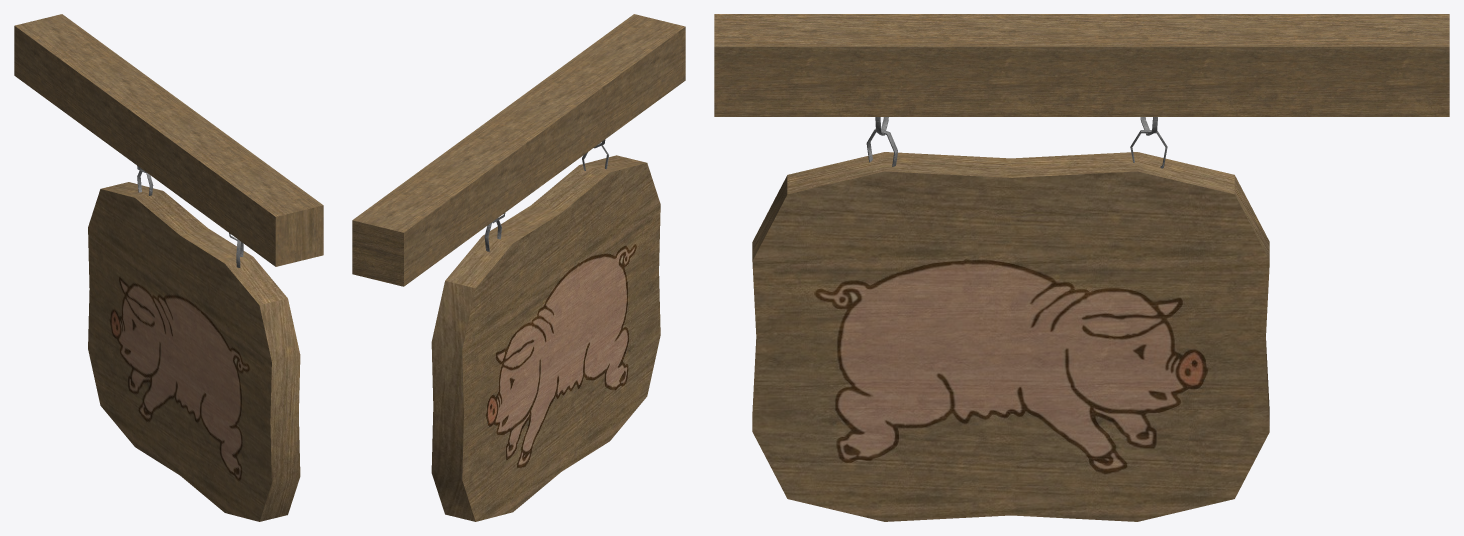
The model's file is sign.dae.
3 renders of one model, left to right at view 1: azimuth 30°, elevation 25°; view 2: azimuth 150°, elevation 25°; view 3: azimuth 270°, elevation 25°, orthographic. The views are drawn at different scales.
Visible parts, largest first — view 1: Cube_002, Cube_003; view 2: Cube_002, Cube_003; view 3: Cube_002, Cube_003.
Part boxes in pixels (left/top/right/bottom): Cube_002: left=88, top=165, right=300, bottom=521; Cube_003: left=14, top=14, right=323, bottom=266; Cube_002: left=431, top=139, right=660, bottom=521; Cube_003: left=352, top=14, right=685, bottom=286; Cube_002: left=752, top=117, right=1269, bottom=521; Cube_003: left=714, top=14, right=1449, bottom=116.
Size of the model in its own units: 0.1514 by 1.43 by 1.04.
Materials: 2 (2 with a texture image).
